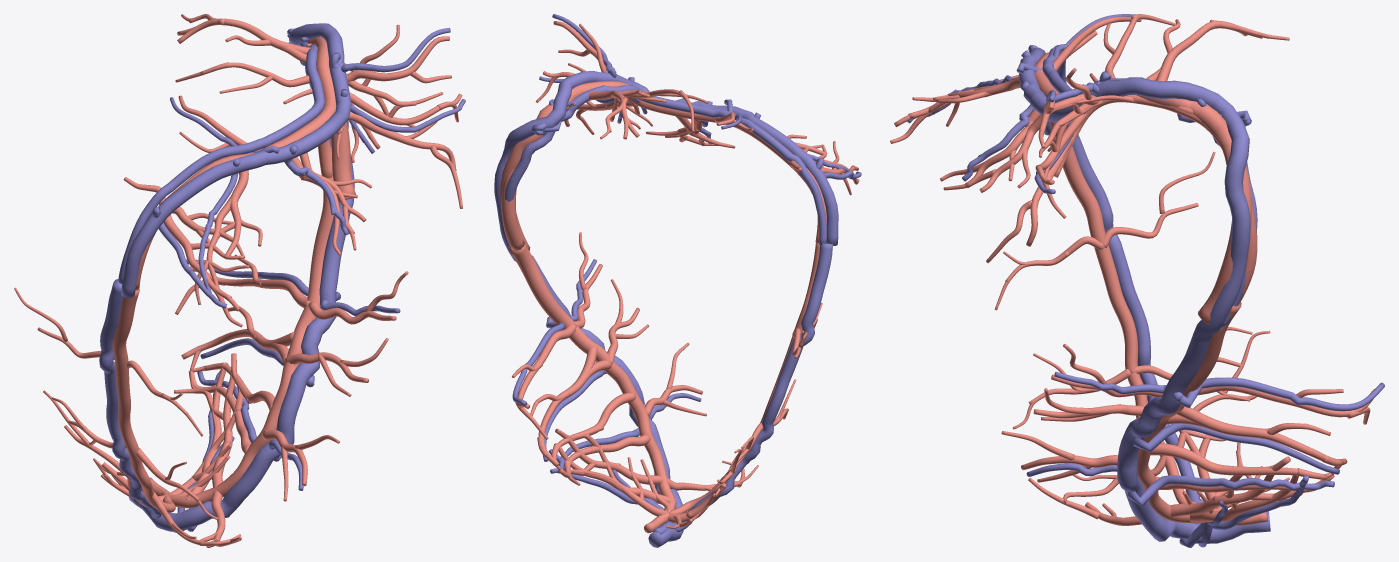
The model's file is vessels_34.glb.
3 renders of one model, left to right at view 1: azimuth 30°, elevation 25°; view 2: azimuth 150°, elevation 25°; view 3: azimuth 270°, elevation 25°, orthographic. The views are drawn at different scales.
Visible parts, largest first — view 1: Renderer Node; view 2: Renderer Node; view 3: Renderer Node.
Boxes of the visible parts, bbox=[...] form: Renderer Node: bbox=[14, 14, 465, 547]; Renderer Node: bbox=[494, 14, 861, 547]; Renderer Node: bbox=[890, 14, 1384, 547].
Size of the model in its own units: 93.84 by 121 by 95.01.
